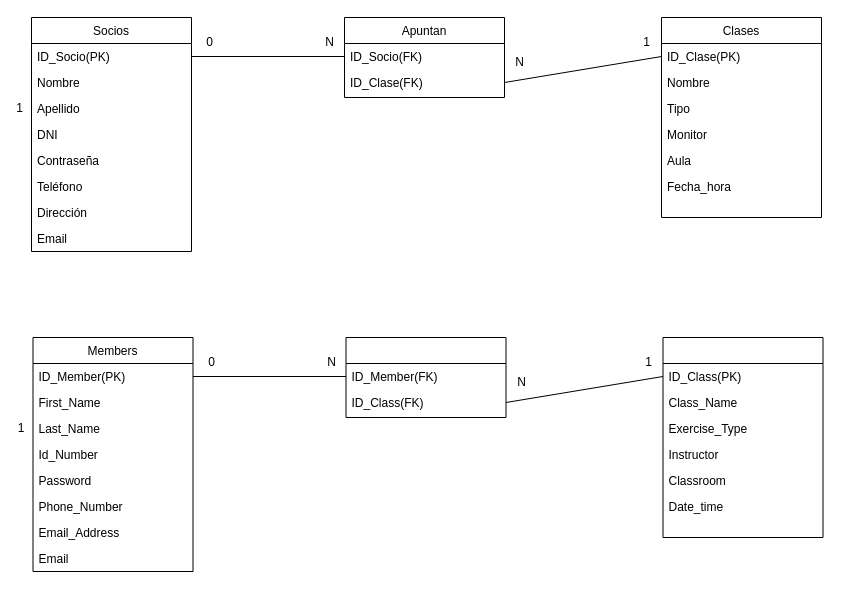
Some shapes in this 841 by 592 pixel diagram are drawn without their labels. The shapes that lost their labels are listed below. From the top down, each one's box as (x1, y1, x2, y2) in pixels, then its label:
(345, 336, 506, 418): Reserve
(662, 336, 823, 538): Classes
